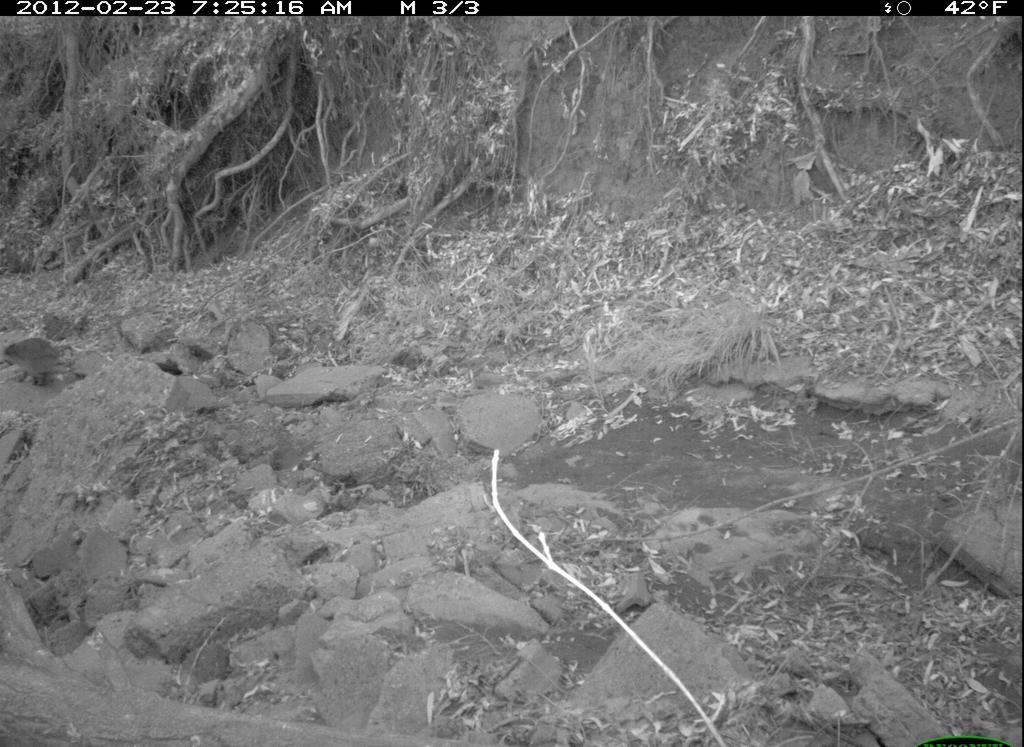raccoon: (3, 327, 79, 395)
